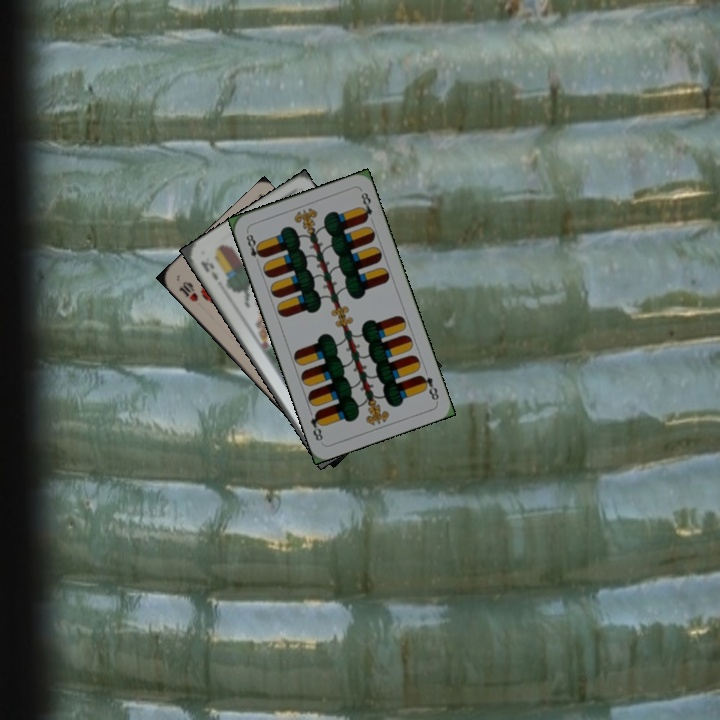E8: (242, 227, 266, 267), (415, 371, 441, 403)
EK: (197, 257, 221, 283)
H10: (175, 277, 201, 304)
